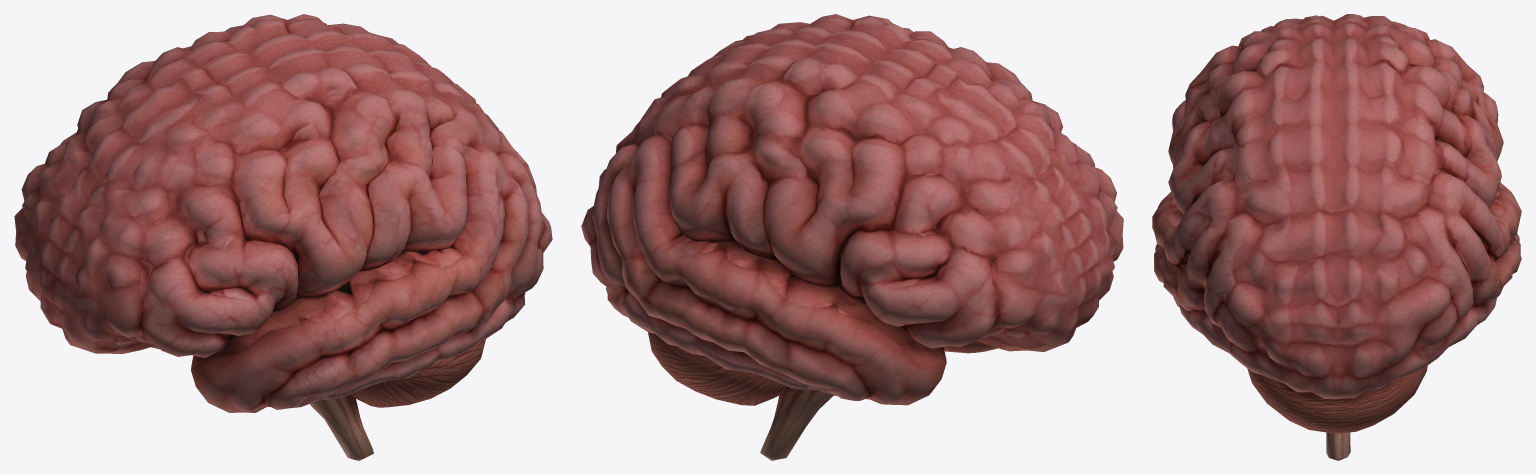
The model's file is brain-realistic.glb.
3 views of the same model, side by side, from view 1: azimuth 30°, elevation 25°; view 2: azimuth 150°, elevation 25°; view 3: azimuth 270°, elevation 25° (orthographic). The views are drawn at different scales.
Parts seen in each view (by area): view 1: tripo_node_30c69ba4-e84f-4ae7-bed5-e5fed962dee6; view 2: tripo_node_30c69ba4-e84f-4ae7-bed5-e5fed962dee6; view 3: tripo_node_30c69ba4-e84f-4ae7-bed5-e5fed962dee6.
Boxes of the visible parts, x1,y1,x2,y2 form: tripo_node_30c69ba4-e84f-4ae7-bed5-e5fed962dee6: (14, 14, 552, 460); tripo_node_30c69ba4-e84f-4ae7-bed5-e5fed962dee6: (581, 14, 1123, 460); tripo_node_30c69ba4-e84f-4ae7-bed5-e5fed962dee6: (1152, 14, 1521, 460).
Size of the model in its own units: 0.998 by 0.8808 by 0.7677.
Materials: 1 (1 with a texture image).
